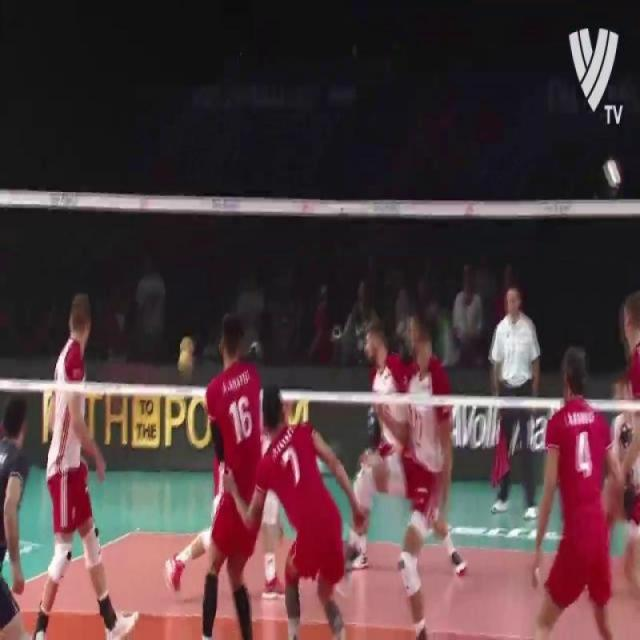volleyball: (177, 349, 196, 376)
